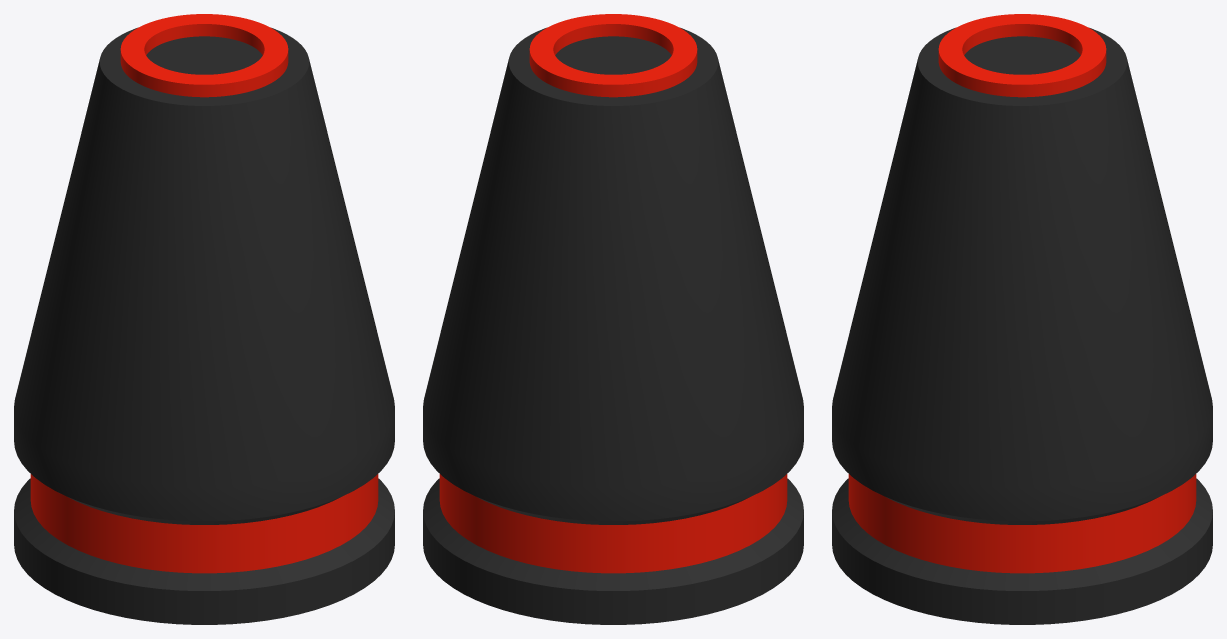
The model's file is laser_target.fbx.
3 renders of one model, left to right at view 1: azimuth 30°, elevation 25°; view 2: azimuth 150°, elevation 25°; view 3: azimuth 270°, elevation 25°, orthographic.
Parts seen in each view (by area): view 1: Cylinder; view 2: Cylinder; view 3: Cylinder.
Part boxes in pixels (x1,y1,x2,y2): Cylinder: [14, 14, 394, 624]; Cylinder: [423, 14, 803, 624]; Cylinder: [832, 14, 1212, 624].
Size of the model in its own units: 66.72 by 95.8 by 66.79.
